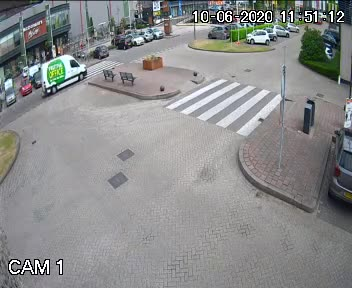car: (34, 48, 99, 94)
